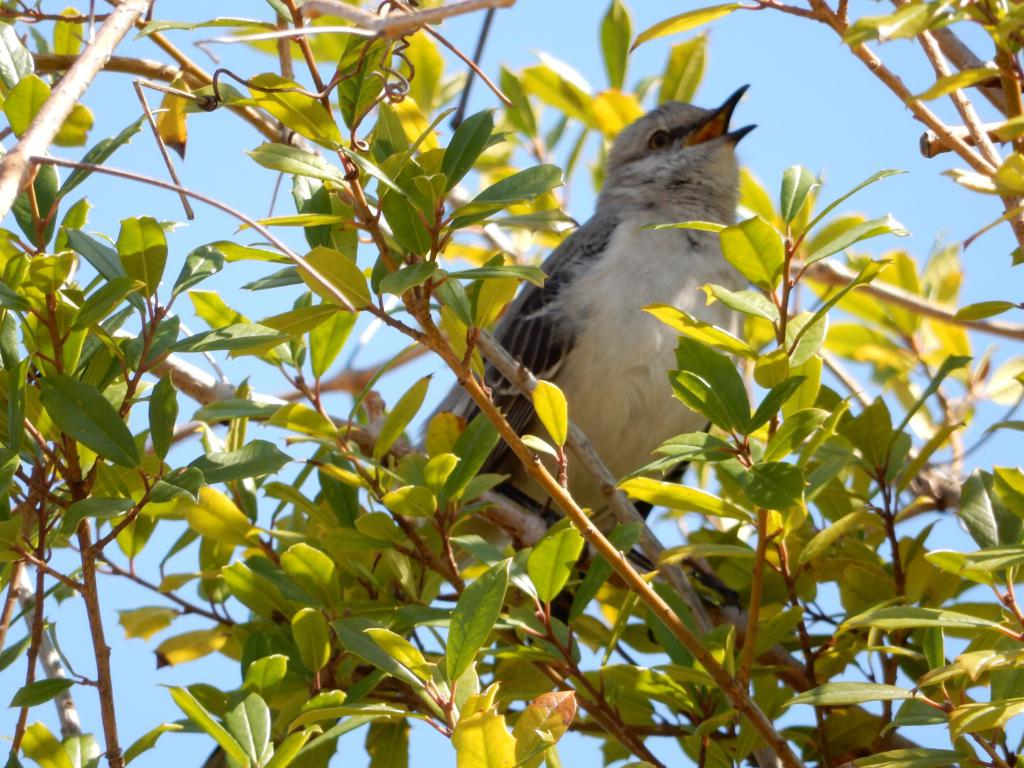Bird: (410, 83, 758, 608)
